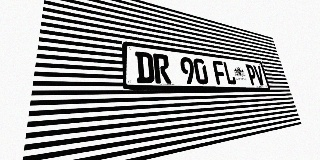0: (193, 58, 209, 84)
9: (179, 56, 196, 84)
D: (135, 51, 155, 83)
F: (212, 60, 227, 85)
L: (222, 61, 237, 85)
P: (245, 64, 258, 85)
R: (153, 53, 172, 84)
V: (253, 65, 266, 85)
